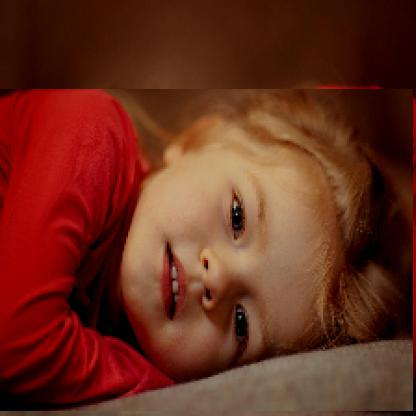child: (1, 90, 415, 413)
